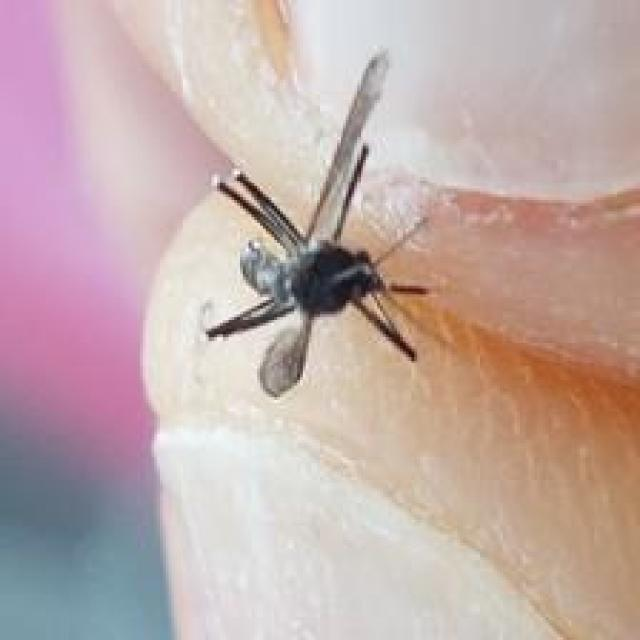Aedes albopictus: (201, 47, 436, 399)
